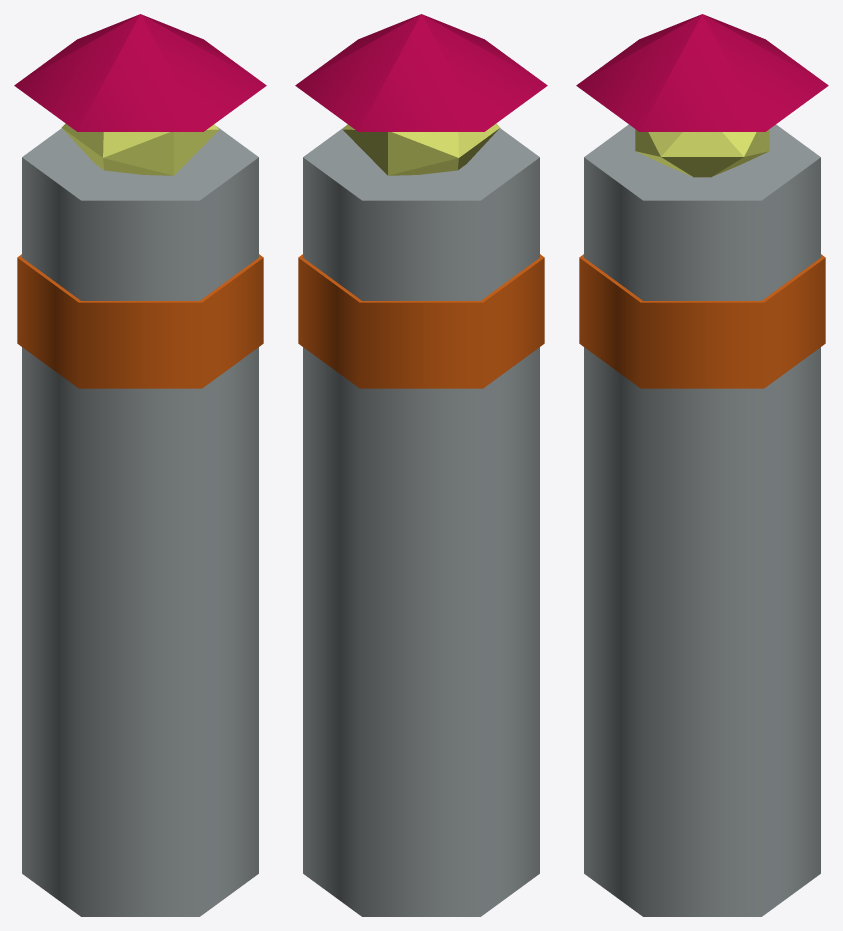
File: lighthouse.glb
3 views of the same model, side by side, from view 1: azimuth 30°, elevation 25°; view 2: azimuth 150°, elevation 25°; view 3: azimuth 270°, elevation 25° (orthographic).
Bounding box in the file's own units: 2.77 × 12 × 3.2.
